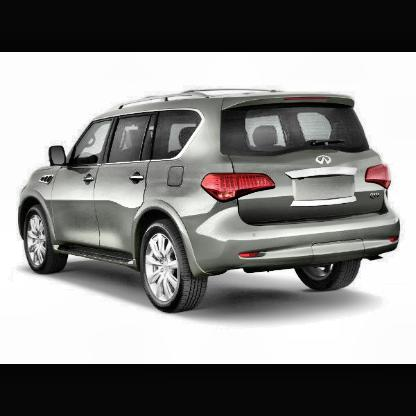Infiniti QX56 SUV 2011: (17, 88, 405, 317)
